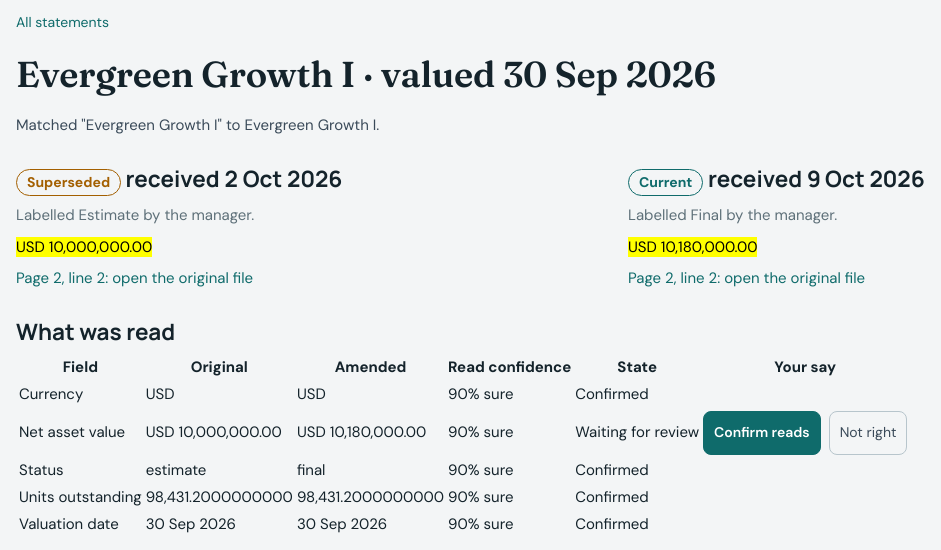
Test: Confirm reads posts the confirmation and shows Confirmed
This screenshot has width=941, height=550.
Click the button "Confirm reads" at [762, 432], box [703,410,821,454]
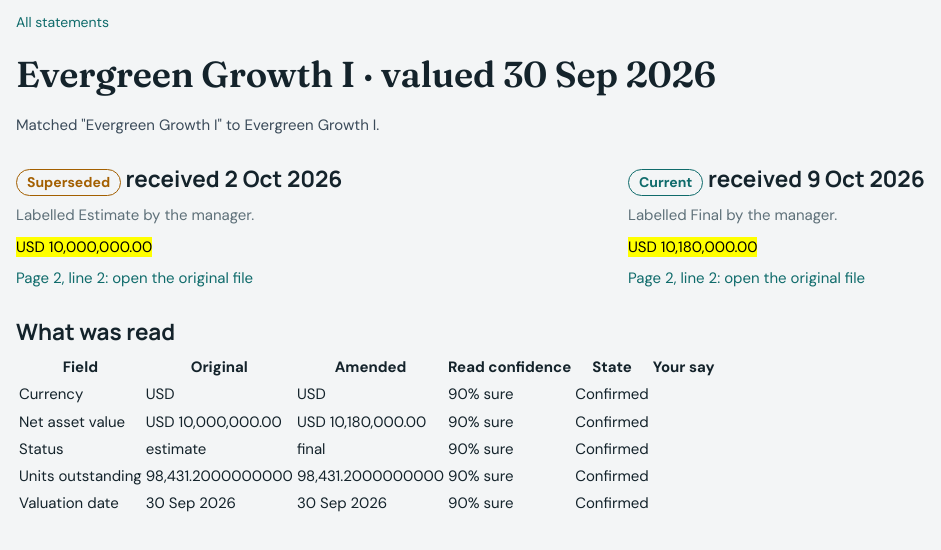
Expected: the button "Confirm reads" is gone
